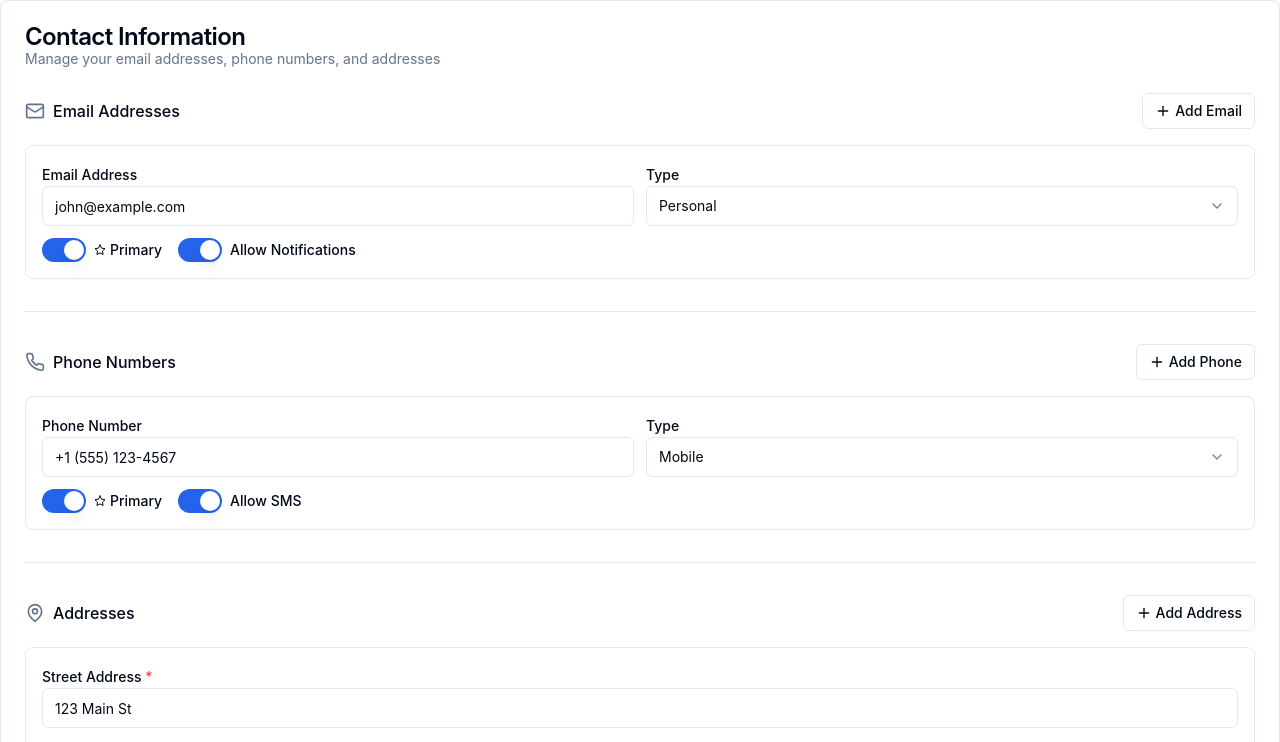
Test: ContactInfoForm › Email Management › should add new email
The width and height of the screenshot is (1280, 742).
Click the button "Add Email": click(1199, 111) [1142, 93, 1255, 129]
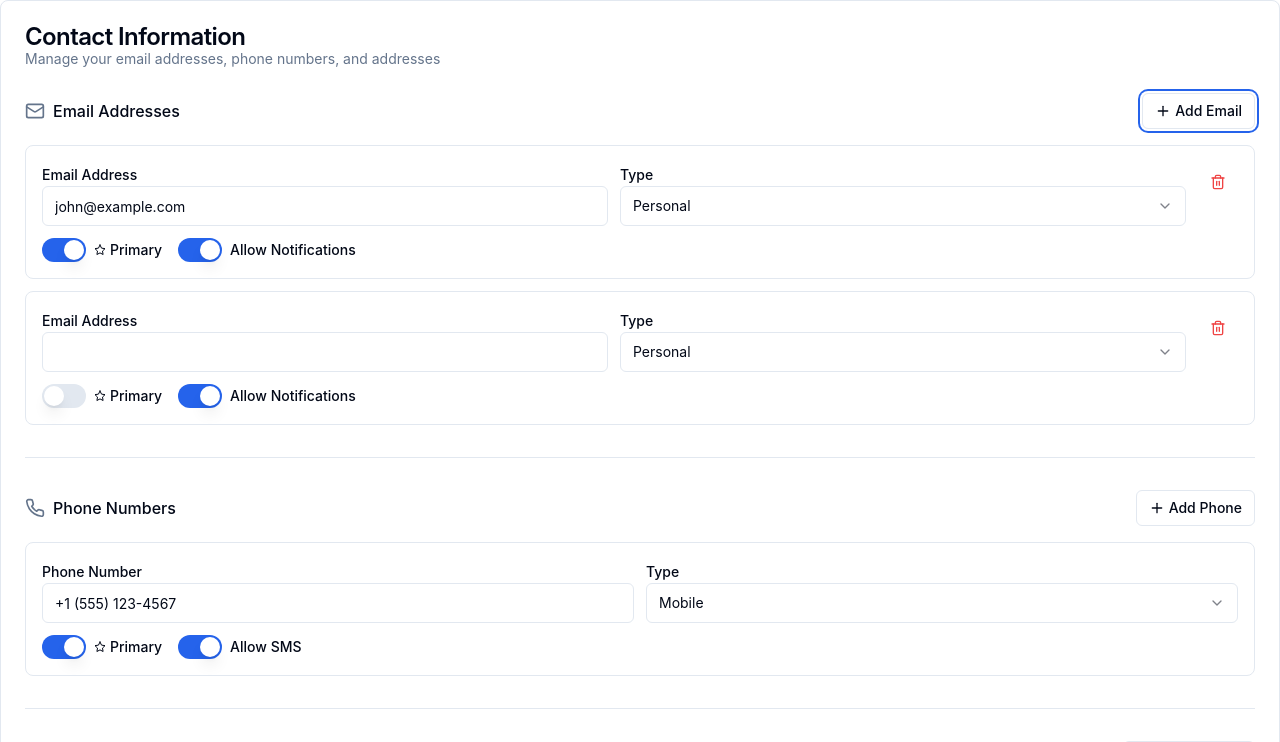
Check: the number of fields labelled "Email Address" is 2, box [42, 186, 608, 226]; [42, 332, 608, 372]
